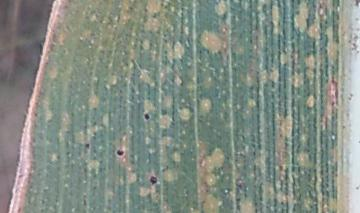tarspot: (114, 147, 126, 158), (148, 174, 159, 186), (143, 113, 151, 122), (83, 142, 91, 149)
